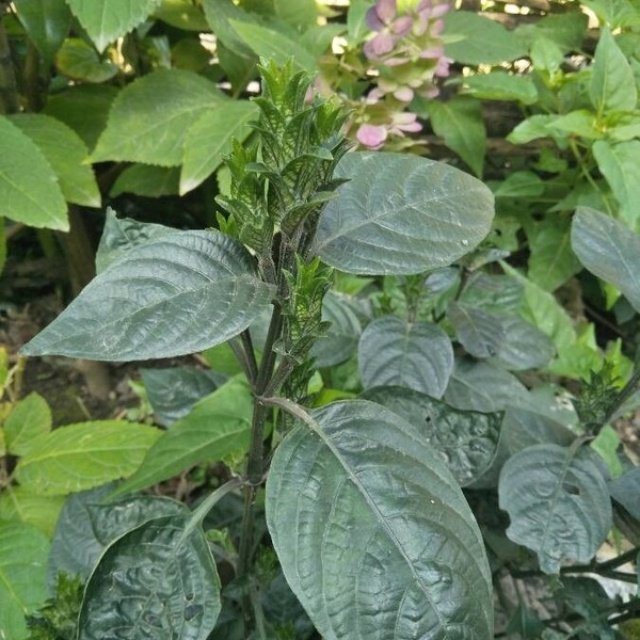obstacle: (58, 69, 583, 620)
